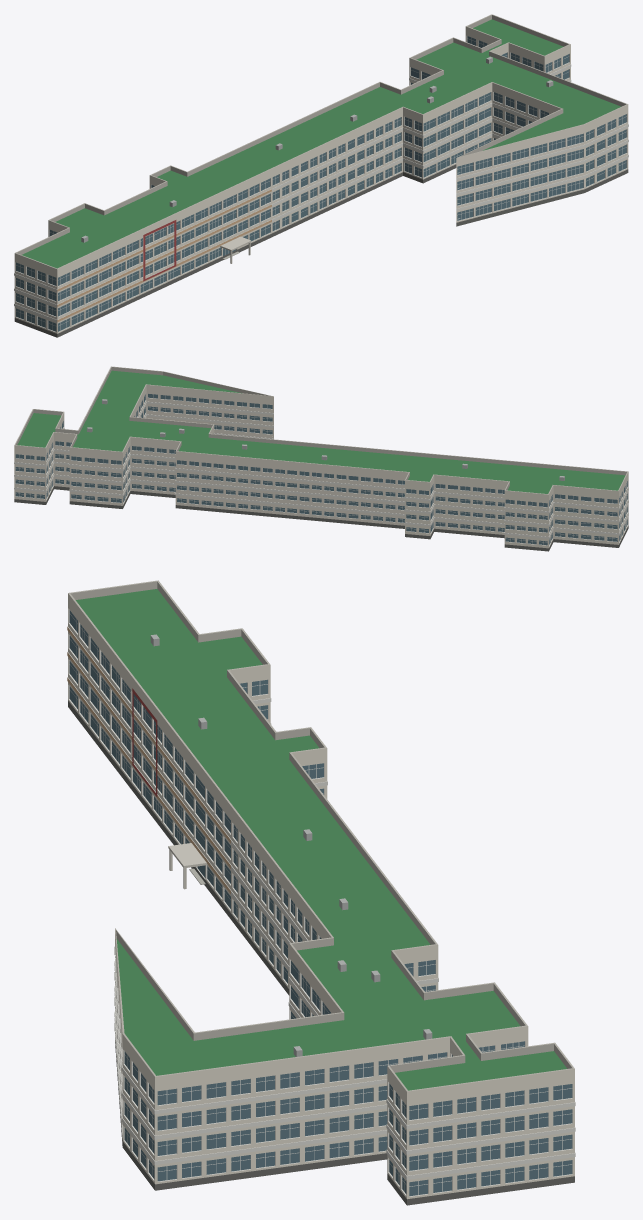
3 renders of one model, top to bottom at view 1: azimuth 30°, elevation 25°; view 2: azimuth 150°, elevation 25°; view 3: azimuth 270°, elevation 25°, orthographic. The views are drawn at different scales.
Visible parts, largest first — view 1: wing1__wall-plaster, wing1__glass, wing1__roof, wing1__trim-concrete, wing1__parapet-concrete, wing1__frame, wing1__base-stone, wing1__ochre-band; view 2: wing1__wall-plaster, wing1__roof, wing1__glass, wing1__trim-concrete, wing1__parapet-concrete, wing1__base-stone, wing1__frame; view 3: wing1__roof, wing1__wall-plaster, wing1__glass, wing1__trim-concrete, wing1__parapet-concrete, wing1__frame, wing1__base-stone, wing1__ochre-band.
Boxes of the visible parts, x1,y1,x2,y2 form: wing1__wall-plaster: [14, 26, 628, 333]; wing1__glass: [16, 36, 626, 331]; wing1__roof: [22, 19, 620, 268]; wing1__trim-concrete: [14, 36, 628, 332]; wing1__parapet-concrete: [15, 14, 627, 269]; wing1__frame: [16, 38, 626, 330]; wing1__base-stone: [14, 164, 628, 337]; wing1__ochre-band: [57, 189, 271, 322]; wing1__wall-plaster: [14, 385, 628, 548]; wing1__roof: [17, 370, 625, 493]; wing1__glass: [15, 394, 627, 545]; wing1__trim-concrete: [14, 393, 628, 546]; wing1__parapet-concrete: [14, 366, 628, 494]; wing1__base-stone: [14, 486, 628, 551]; wing1__frame: [16, 394, 627, 544]; wing1__roof: [75, 589, 567, 1090]; wing1__wall-plaster: [68, 593, 574, 1199]; wing1__glass: [69, 610, 572, 1196]; wing1__trim-concrete: [67, 608, 575, 1196]; wing1__parapet-concrete: [68, 580, 574, 1091]; wing1__frame: [69, 614, 572, 1194]; wing1__base-stone: [68, 701, 574, 1205]; wing1__ochre-band: [67, 627, 230, 893].
Bounding box in the file's own units: 156 × 16.15 × 65.39.
